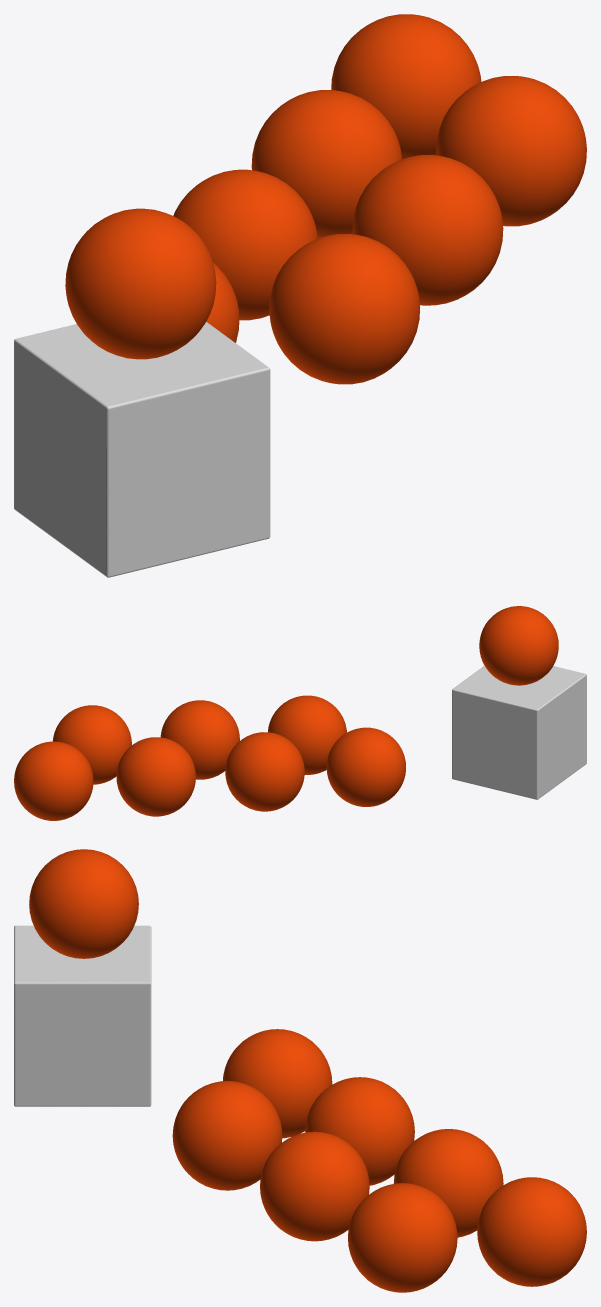
Rendered from fried_sculpture_initial.fbx.
3 renders of one model, top to bottom at view 1: azimuth 30°, elevation 25°; view 2: azimuth 150°, elevation 25°; view 3: azimuth 270°, elevation 25°, orthographic. The views are drawn at different scales.
Parts seen in each view (by area): view 1: Cube, Icosphere, Icosphere.008, Icosphere.006, Icosphere.007, Icosphere.003, Icosphere.004, Icosphere.002, Icosphere.001; view 2: Cube, Icosphere.002, Icosphere, Icosphere.004, Icosphere.003, Icosphere.001, Icosphere.007, Icosphere.008, Icosphere.006; view 3: Cube, Icosphere, Icosphere.006, Icosphere.004, Icosphere.007, Icosphere.008, Icosphere.002, Icosphere.001, Icosphere.003.
Part boxes in pixels (x1=…): Cube: x1=14, y1=322, x2=270, y2=577; Icosphere: x1=65, y1=208, x2=216, y2=359; Icosphere.008: x1=269, y1=234, x2=420, y2=384; Icosphere.006: x1=436, y1=76, x2=586, y2=226; Icosphere.007: x1=352, y1=155, x2=503, y2=305; Icosphere.003: x1=251, y1=90, x2=401, y2=238; Icosphere.004: x1=331, y1=14, x2=481, y2=159; Icosphere.002: x1=173, y1=169, x2=317, y2=320; Icosphere.001: x1=206, y1=263, x2=239, y2=342; Cube: x1=452, y1=666, x2=586, y2=799; Icosphere.002: x1=225, y1=732, x2=304, y2=811; Icosphere: x1=479, y1=606, x2=558, y2=685; Icosphere.004: x1=14, y1=741, x2=93, y2=820; Icosphere.003: x1=116, y1=737, x2=195, y2=816; Icosphere.001: x1=326, y1=727, x2=405, y2=806; Icosphere.007: x1=160, y1=700, x2=239, y2=779; Icosphere.008: x1=268, y1=695, x2=346, y2=774; Icosphere.006: x1=52, y1=705, x2=131, y2=784; Cube: x1=14, y1=925, x2=151, y2=1106; Icosphere: x1=29, y1=849, x2=138, y2=958; Icosphere.006: x1=348, y1=1183, x2=457, y2=1292; Icosphere.004: x1=477, y1=1177, x2=586, y2=1286; Icosphere.007: x1=260, y1=1131, x2=369, y2=1241; Icosphere.008: x1=172, y1=1081, x2=282, y2=1190; Icosphere.002: x1=305, y1=1077, x2=414, y2=1185; Icosphere.001: x1=223, y1=1029, x2=332, y2=1138; Icosphere.003: x1=393, y1=1129, x2=503, y2=1237.
Bounding box in the file's own units: 225 × 90.11 × 209.
